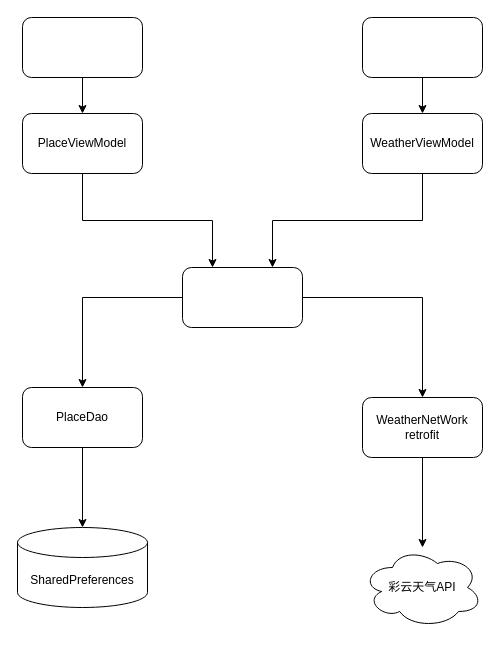
This 500x645 diagram has some shape labels left out. The centre of each missing label's shape, as x and y in pixels:
"MainActivity PlaceFragment" belongs at point (82, 47).
"Repository" belongs at point (242, 297).
"WeatherActivity" belongs at point (422, 47).
